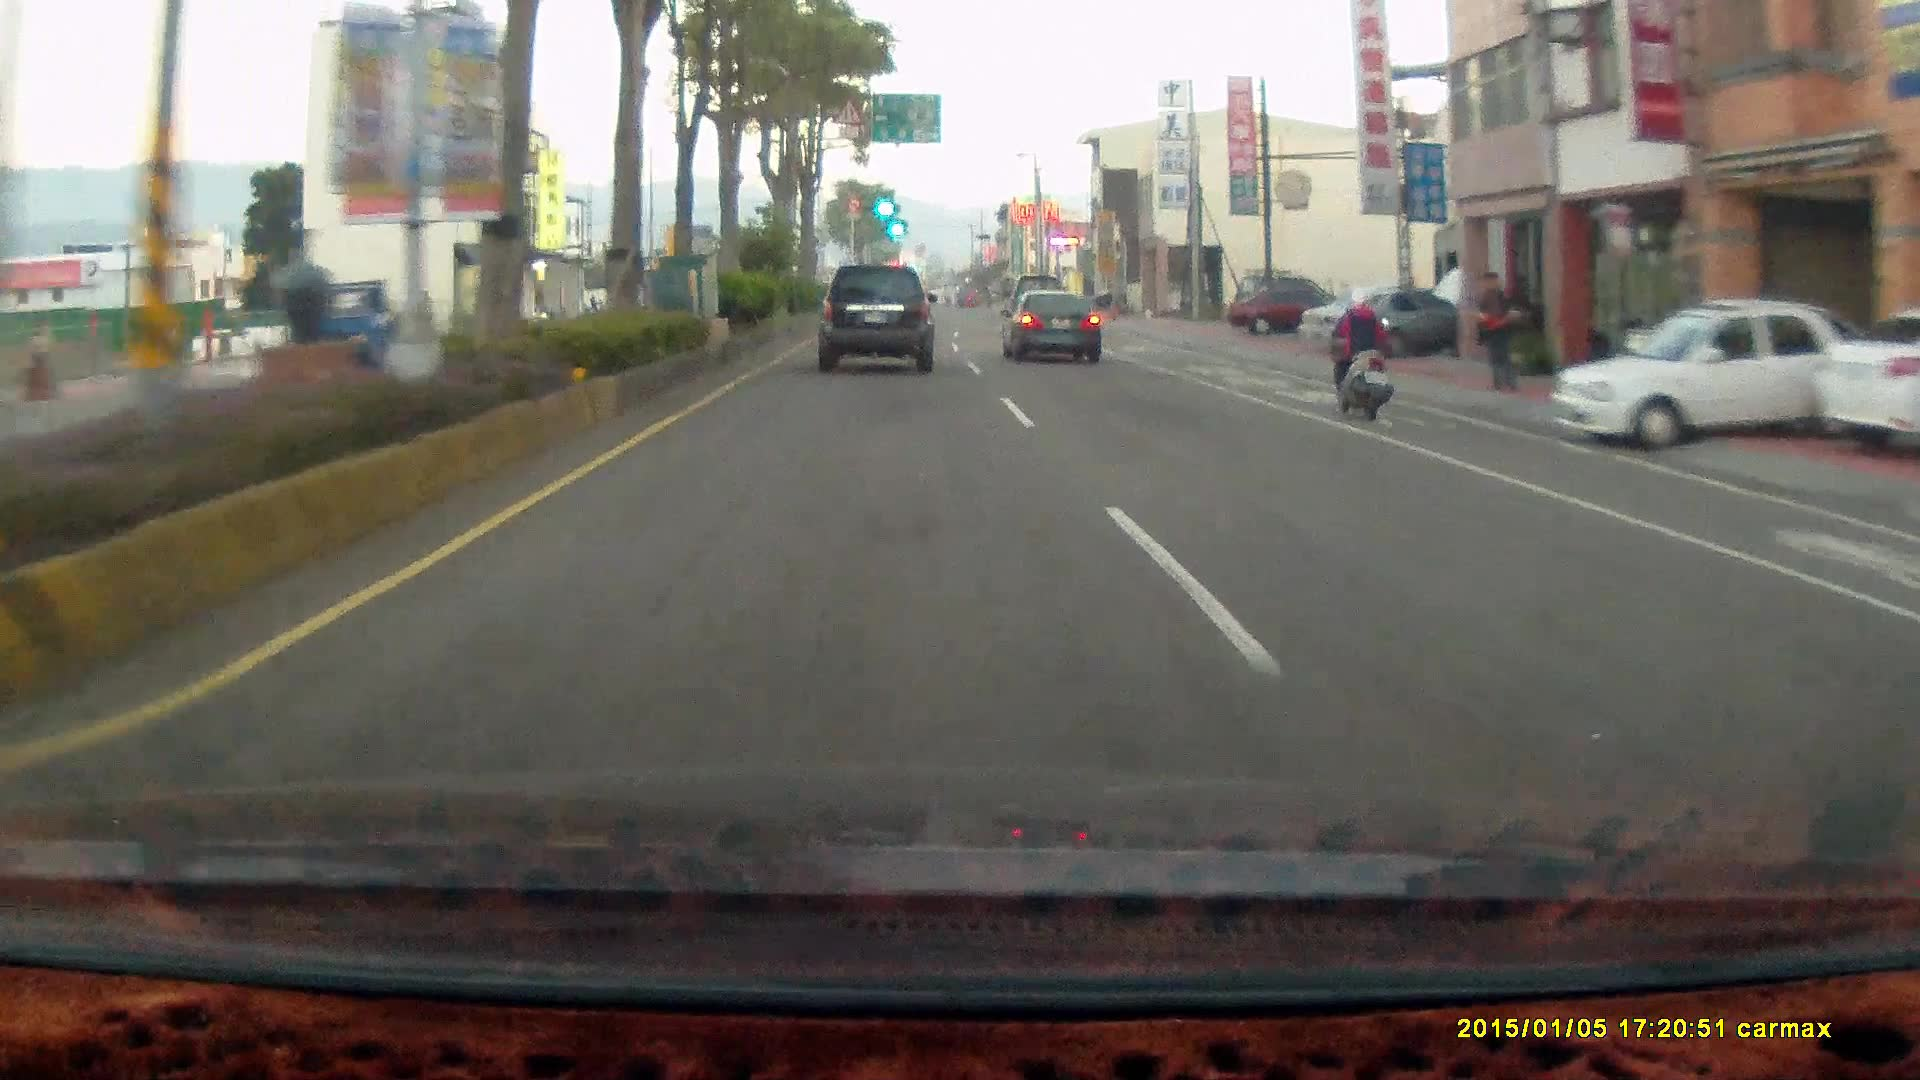pedestrian: (1466, 269, 1524, 396)
rider: (1315, 278, 1405, 428), (1325, 288, 1393, 420)
vehicle: (1553, 304, 1863, 467), (1546, 305, 1867, 455), (1811, 309, 1920, 460), (1811, 307, 1920, 459), (811, 262, 942, 382), (815, 264, 937, 373), (1296, 293, 1472, 369), (1298, 287, 1478, 358), (1229, 280, 1362, 339), (1001, 295, 1104, 370), (999, 289, 1101, 364), (1228, 285, 1360, 336)
